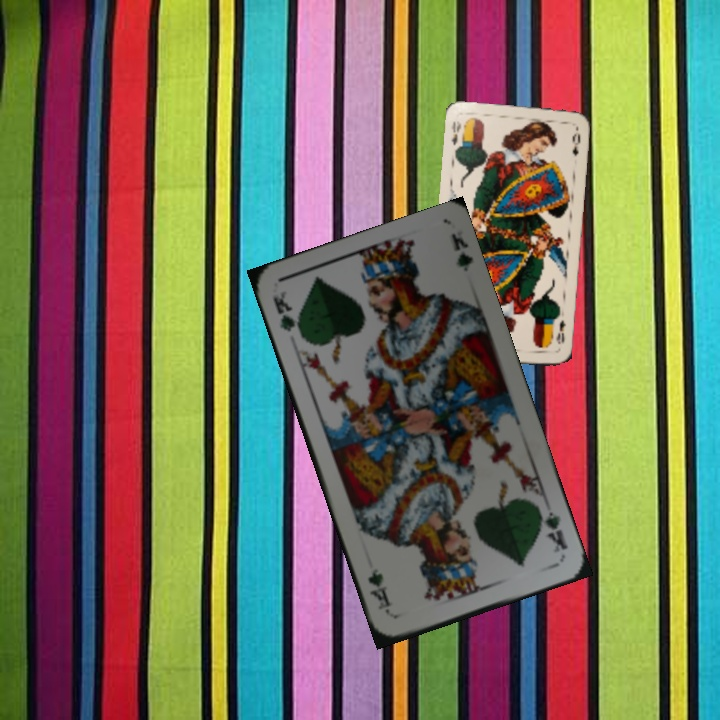EO: (447, 117, 464, 148), (552, 316, 569, 346)
GK: (269, 286, 305, 340), (534, 503, 570, 556)
